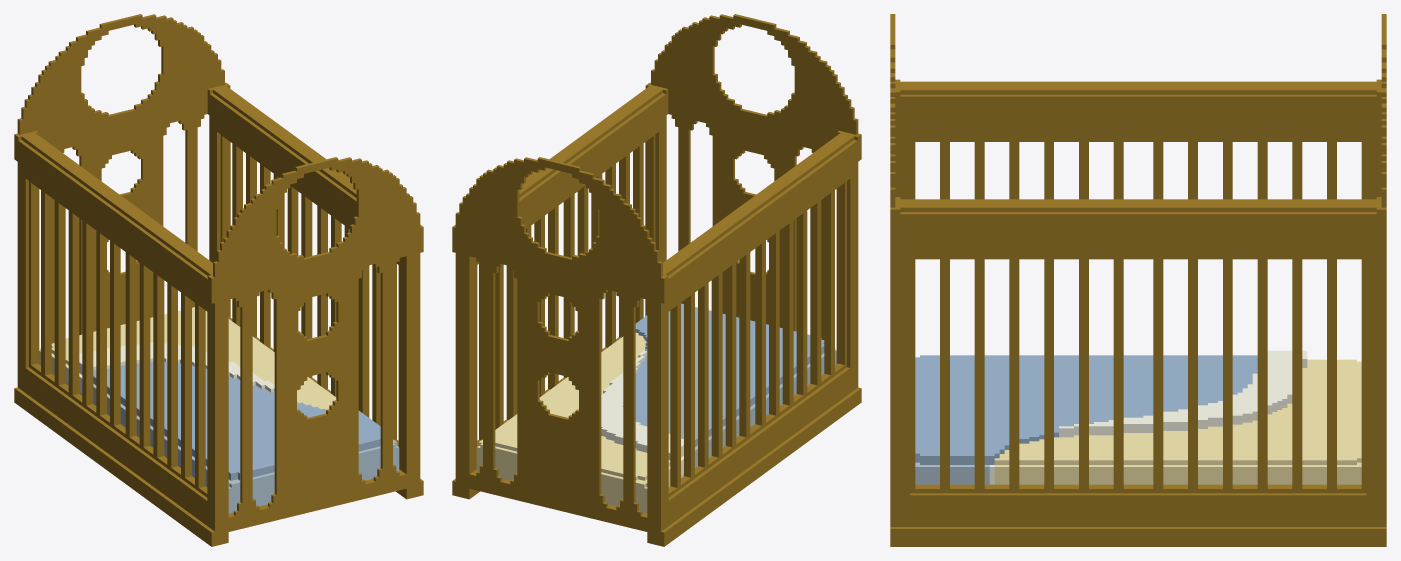
Rendered from lit.obj.
3 renders of one model, left to right at view 1: azimuth 30°, elevation 25°; view 2: azimuth 150°, elevation 25°; view 3: azimuth 270°, elevation 25°, orthographic. The views are drawn at different scales.
Size of the model in its own units: 62 by 100 by 100.
1 material, 1 textured.
